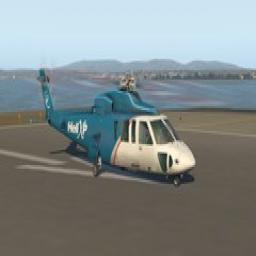helicopter: (39, 65, 199, 187)
